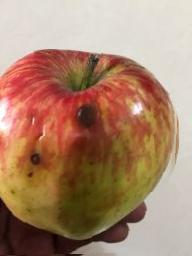Apple Semifresh: (0, 49, 180, 255)
